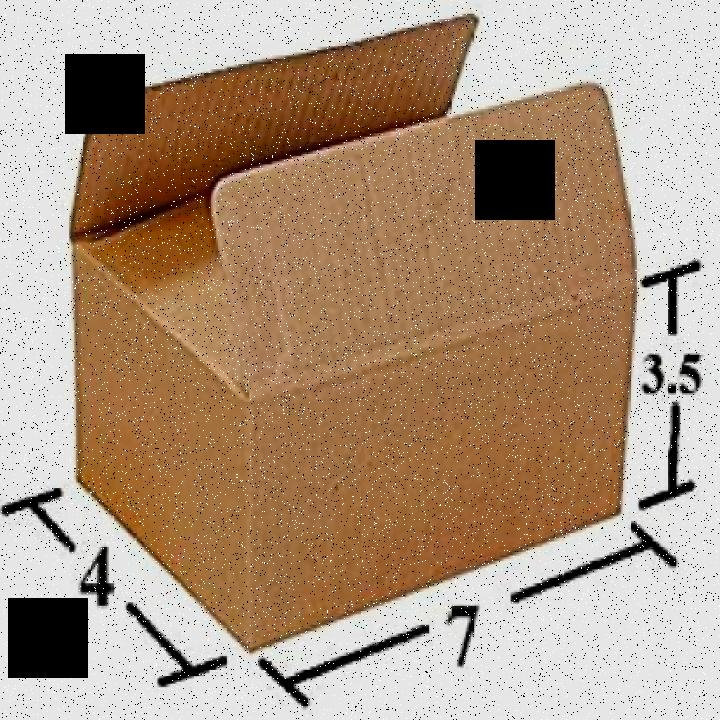box: (65, 15, 638, 657)
